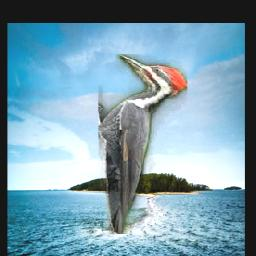Woodpecker: (98, 54, 187, 234)
